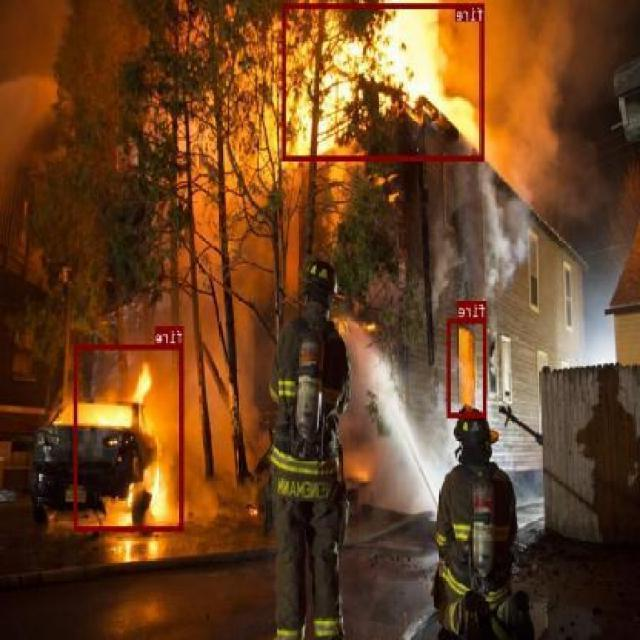Fire: (266, 0, 496, 167), (36, 346, 174, 544)
Smoke: (434, 0, 594, 315)
